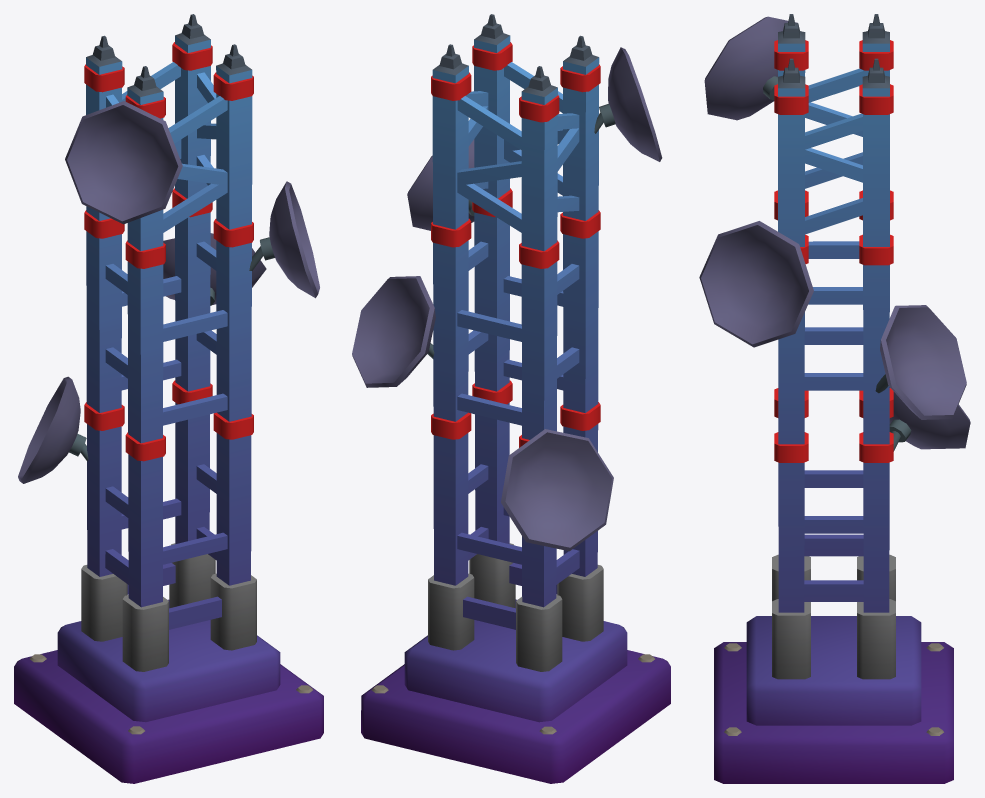
The model's file is SignalTower_1_B.glb.
The picture shows the model from 3 angles, left to right: view 1: azimuth 30°, elevation 25°; view 2: azimuth 150°, elevation 25°; view 3: azimuth 270°, elevation 25°; orthographic projection. The views are drawn at different scales.
Visible parts, largest first — view 1: SignalTower_1_B; view 2: SignalTower_1_B; view 3: SignalTower_1_B.
Part boxes in pixels (x1=…): SignalTower_1_B: x1=14, y1=14, x2=323, y2=783; SignalTower_1_B: x1=352, y1=14, x2=670, y2=783; SignalTower_1_B: x1=699, y1=14, x2=970, y2=783.
Size of the model in its own units: 1.18 by 3.09 by 1.09.
Materials: 2 (2 with a texture image).
